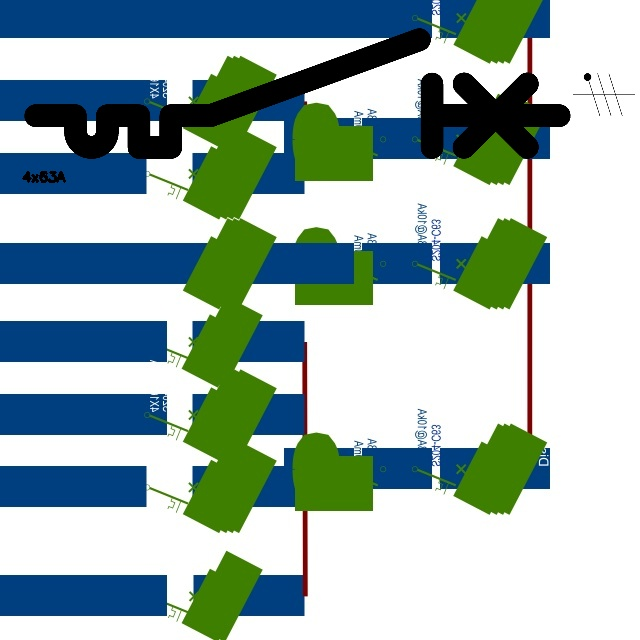interruptor_termomagnetico: (22, 26, 572, 161)
